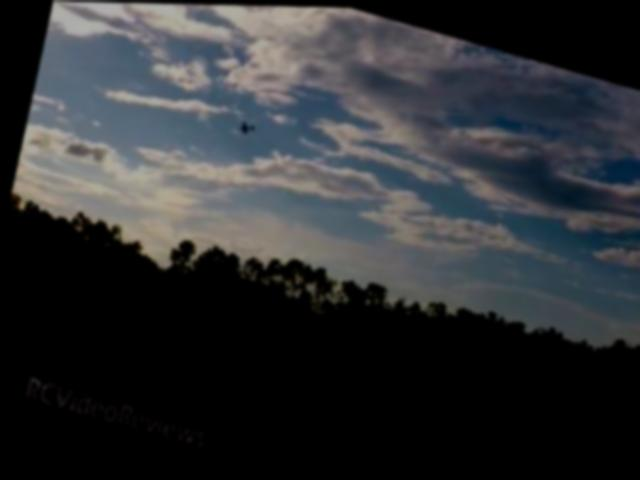uav: (228, 110, 260, 142)
